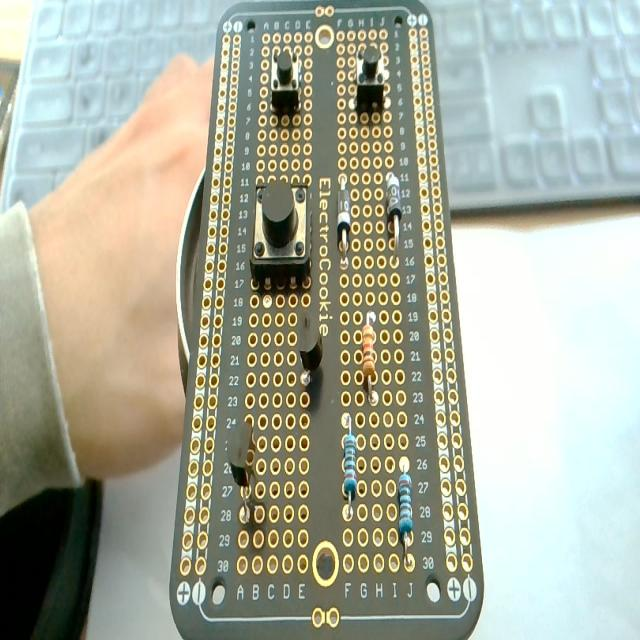diode: (385, 171, 402, 250), (337, 174, 351, 260)
resistor: (395, 466, 412, 565), (361, 316, 379, 407), (342, 417, 358, 519)
switch: (250, 177, 312, 290), (270, 47, 301, 114), (355, 46, 386, 110)
transistor: (227, 415, 257, 523), (296, 301, 324, 385)
